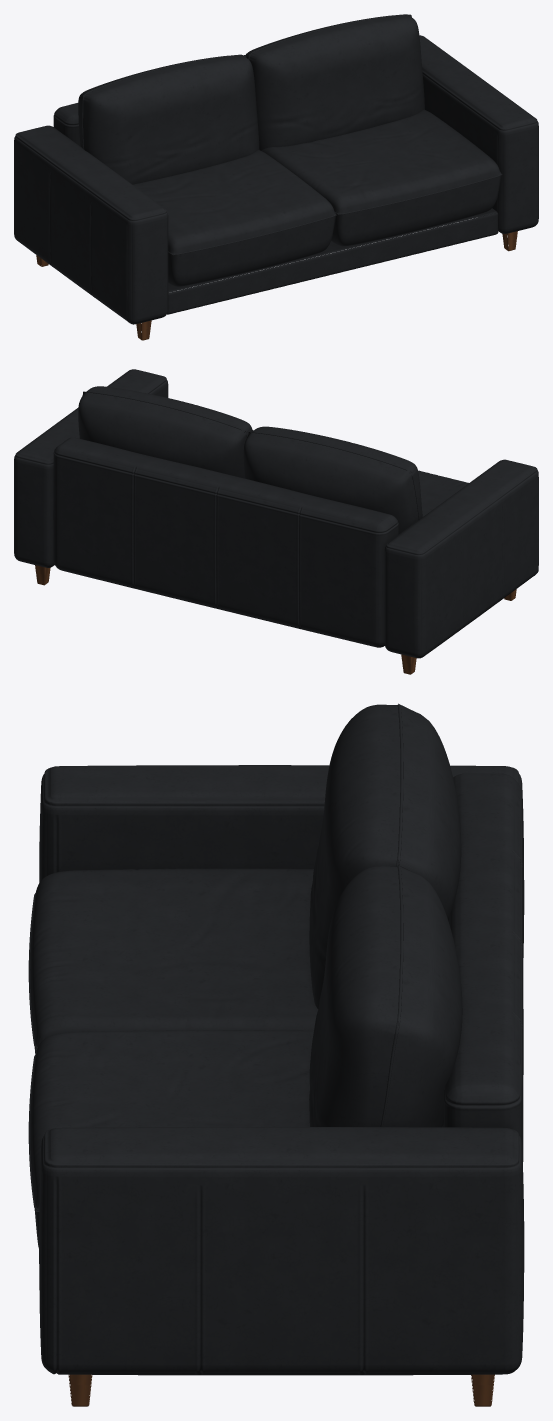
Rendered from sofa-couro.glb.
The picture shows the model from 3 angles, top to bottom: view 1: azimuth 30°, elevation 25°; view 2: azimuth 150°, elevation 25°; view 3: azimuth 270°, elevation 25°; orthographic projection. The views are drawn at different scales.
Parts seen in each view (by area): view 1: Couro, Pes; view 2: Couro, Pes; view 3: Couro, Pes.
Part boxes in pixels (bbox=[...]): Couro: bbox=[14, 14, 538, 324]; Pes: bbox=[36, 231, 517, 340]; Couro: bbox=[14, 369, 538, 658]; Pes: bbox=[35, 565, 516, 674]; Couro: bbox=[28, 703, 524, 1375]; Pes: bbox=[68, 1374, 494, 1406].
Bounding box in the file's own units: 1.87 × 0.8155 × 0.9727.
2 materials, 2 textured.
